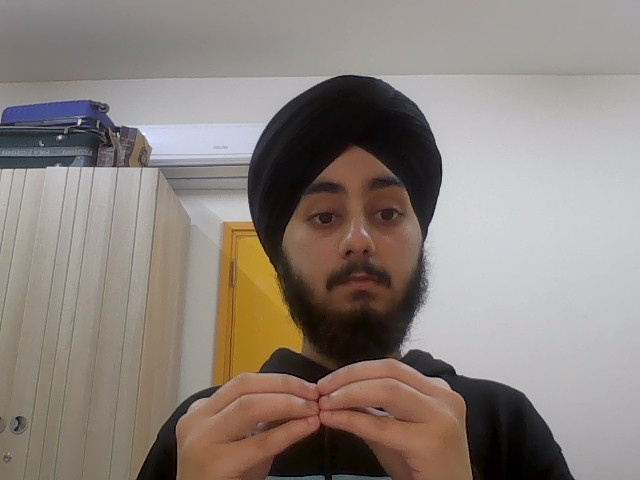More: (174, 354, 474, 480)
